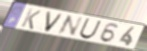4: (118, 26, 136, 48)
6: (98, 23, 119, 44)
K: (19, 8, 43, 30)
N: (55, 14, 85, 37)
U: (78, 18, 103, 40)
V: (43, 10, 65, 34)
